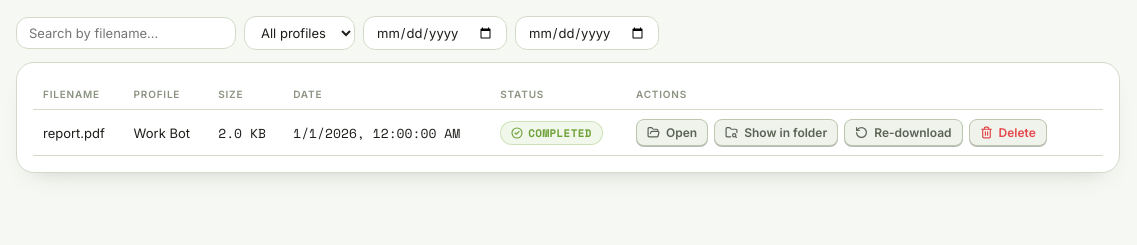
Scenario: DownloadsPage › a failed action (e.g. Re-download on an already-running profile) shows an error banner, not silence
Click the button "Re-download" at (903, 132), box [844,119,962,146]
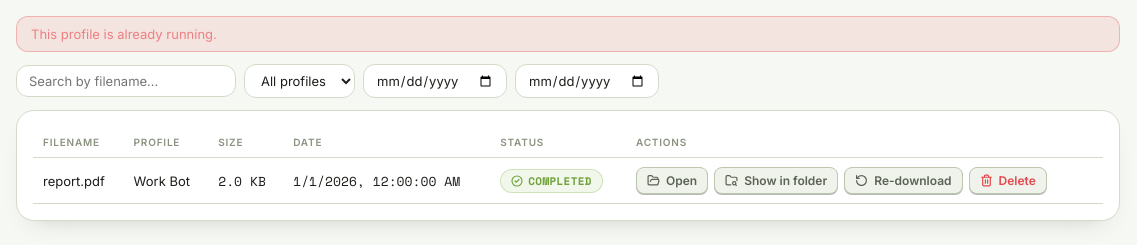
Result: the text "This profile is already running." is shown at [16,16,1120,52]
